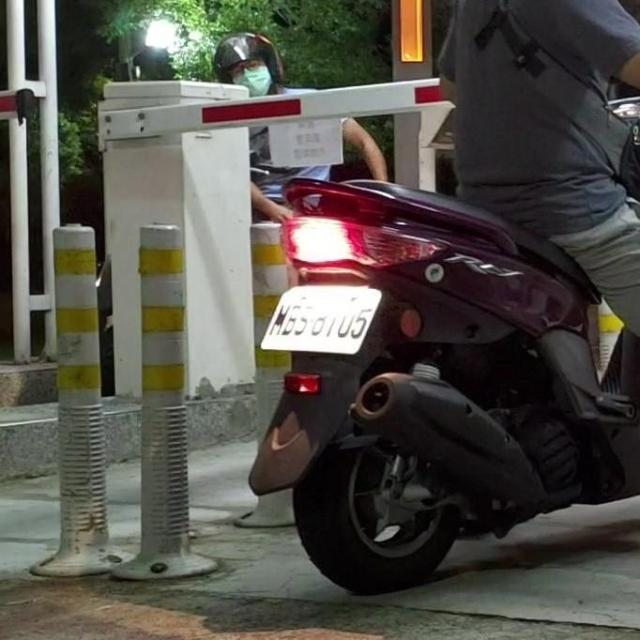W: (256, 277, 381, 361)
